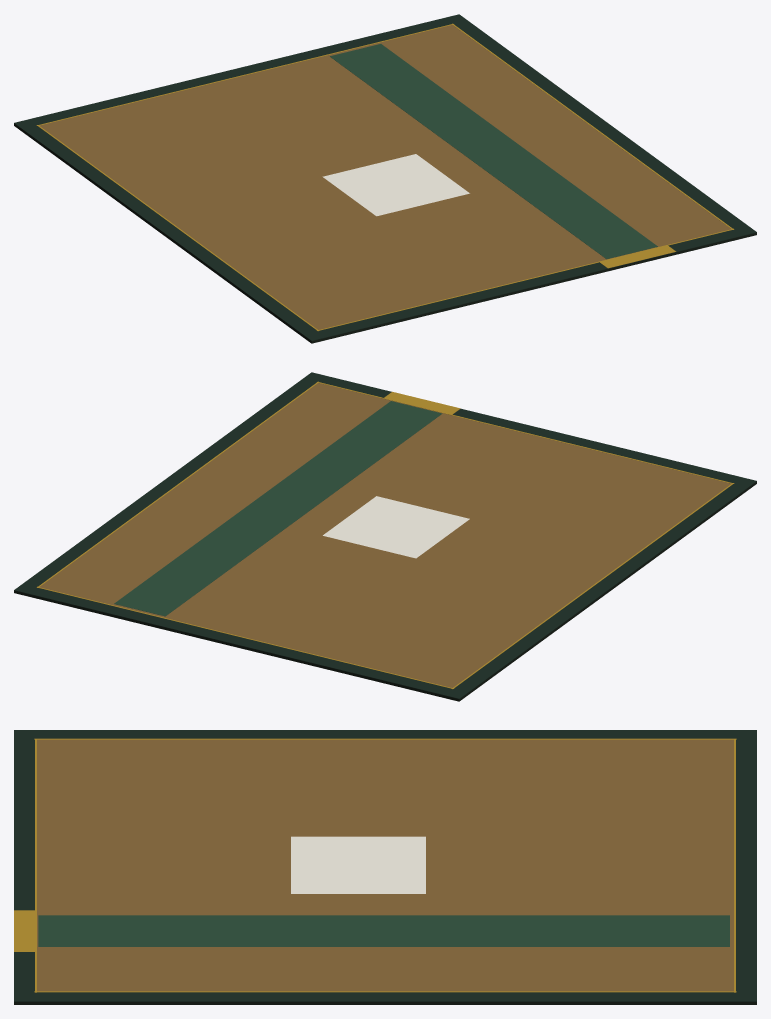
File: floor-interior.glb
3 views of the same model, one above another, from view 1: azimuth 30°, elevation 25°; view 2: azimuth 150°, elevation 25°; view 3: azimuth 270°, elevation 25° (orthographic). The views are drawn at different scales.
Parts seen in each view (by area): view 1: field, aisle_runner, floor_medallion_slot, border_left, border_right, border_back, border_front, slab, entry_threshold, pinstripe_back, pinstripe_left, pinstripe_right; view 2: field, aisle_runner, floor_medallion_slot, border_left, border_right, border_back, border_front, slab, entry_threshold, pinstripe_back, pinstripe_left, pinstripe_right; view 3: field, aisle_runner, floor_medallion_slot, border_right, border_left, border_back, border_front, slab, pinstripe_right, pinstripe_left, entry_threshold, pinstripe_back.
Boxes of the visible parts, left/top/right/bottom form: field: left=39, top=25, right=731, bottom=329; aisle_runner: left=330, top=44, right=657, bottom=259; floor_medallion_slot: left=322, top=154, right=469, bottom=216; border_left: left=15, top=119, right=325, bottom=340; border_right: left=443, top=15, right=756, bottom=234; border_back: left=14, top=14, right=467, bottom=129; border_front: left=305, top=225, right=756, bottom=341; slab: left=14, top=123, right=756, bottom=343; entry_threshold: left=599, top=245, right=676, bottom=268; pinstripe_back: left=36, top=24, right=453, bottom=125; pinstripe_left: left=37, top=125, right=318, bottom=331; pinstripe_right: left=452, top=23, right=733, bottom=229; field: left=39, top=383, right=731, bottom=687; aisle_runner: left=114, top=401, right=442, bottom=616; floor_medallion_slot: left=323, top=496, right=469, bottom=558; border_left: left=448, top=477, right=755, bottom=698; border_right: left=15, top=372, right=326, bottom=593; border_back: left=14, top=583, right=464, bottom=699; border_front: left=303, top=372, right=756, bottom=487; slab: left=14, top=481, right=756, bottom=701; entry_threshold: left=383, top=391, right=460, bottom=414; pinstripe_back: left=36, top=586, right=454, bottom=688; pinstripe_left: left=452, top=483, right=733, bottom=689; pinstripe_right: left=37, top=381, right=318, bottom=587; field: left=37, top=739, right=733, bottom=991; aisle_runner: left=38, top=915, right=729, bottom=946; floor_medallion_slot: left=291, top=836, right=425, bottom=893; border_right: left=14, top=991, right=756, bottom=1001; border_left: left=14, top=730, right=756, bottom=739; border_back: left=734, top=730, right=756, bottom=1001; border_front: left=14, top=730, right=36, bottom=1001; slab: left=14, top=1002, right=756, bottom=1004; pinstripe_right: left=34, top=991, right=736, bottom=992; pinstripe_left: left=34, top=738, right=736, bottom=739; entry_threshold: left=14, top=910, right=36, bottom=951; pinstripe_back: left=734, top=738, right=735, bottom=992.
Bounding box in the file's own units: 9.5 × 0.066 × 11.
